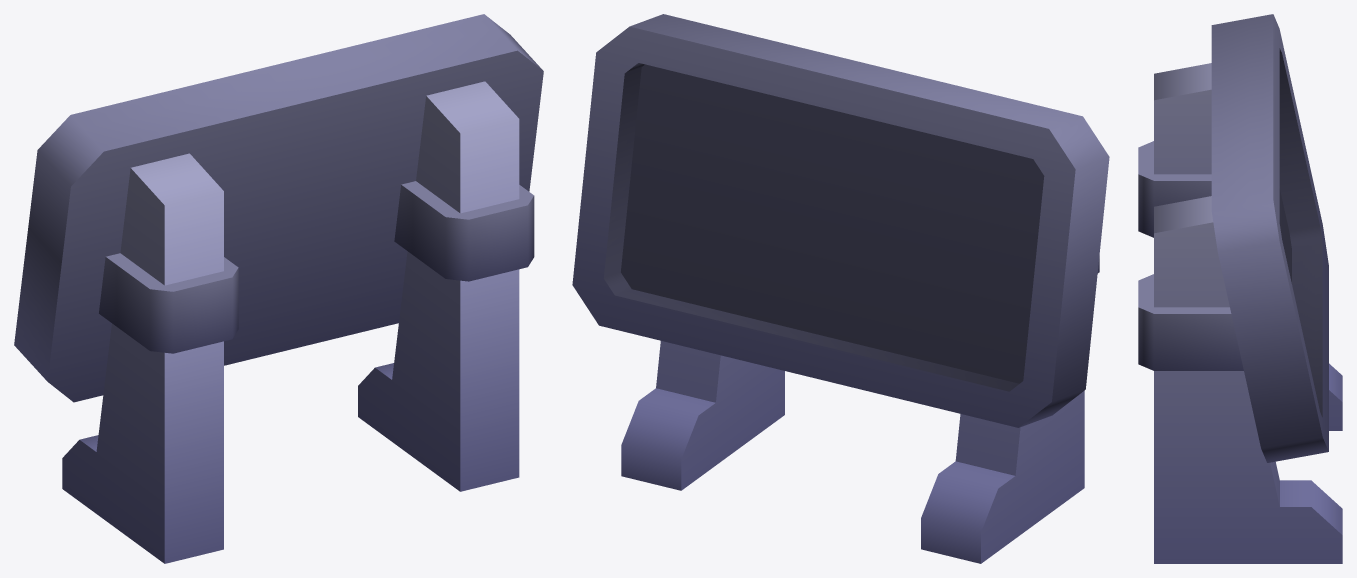
The model's file is kenney-factory-screen-wide.glb.
3 views of the same model, side by side, from view 1: azimuth 30°, elevation 25°; view 2: azimuth 150°, elevation 25°; view 3: azimuth 270°, elevation 25° (orthographic). The views are drawn at different scales.
Parts seen in each view (by area): view 1: screen-wide; view 2: screen-wide; view 3: screen-wide.
Part boxes in pixels (x1=…): screen-wide: x1=14, y1=14, x2=543, y2=563; screen-wide: x1=572, y1=14, x2=1109, y2=563; screen-wide: x1=1138, y1=14, x2=1342, y2=563.
Bounding box in the file's own units: 1.8 × 1.49 × 0.7312.
1 material, 1 textured.
